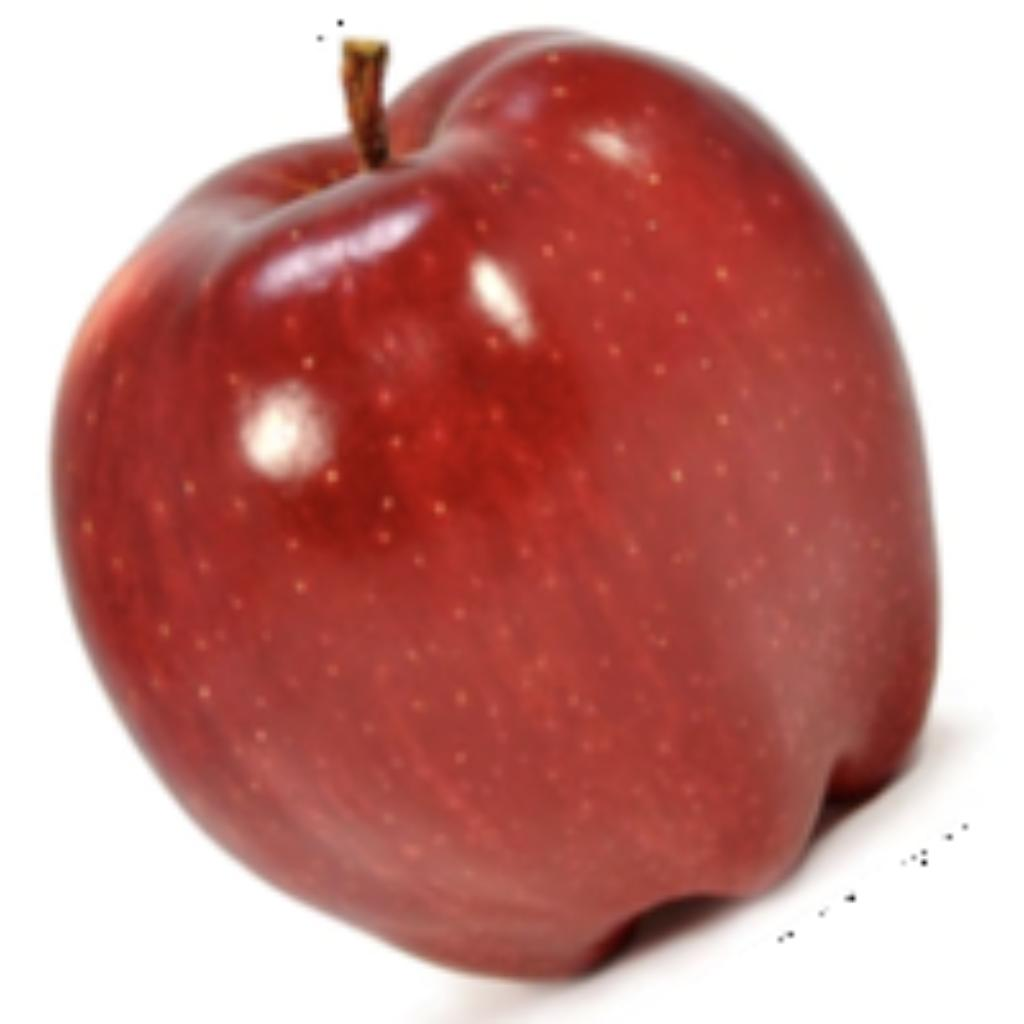apple: (41, 15, 993, 1019)
